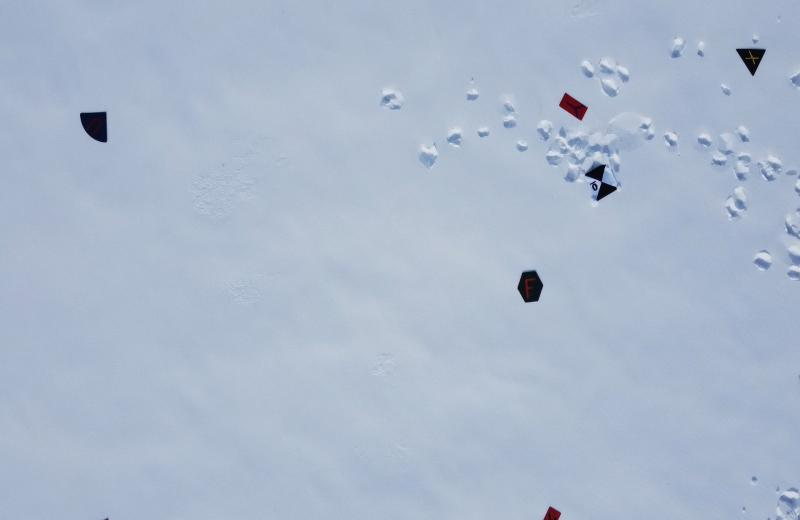Hexagon: (518, 268, 544, 306)
Quarter Circle: (78, 112, 109, 150)
Rectangle: (560, 90, 590, 121), (544, 502, 562, 520)
Triangle: (735, 46, 765, 79)
